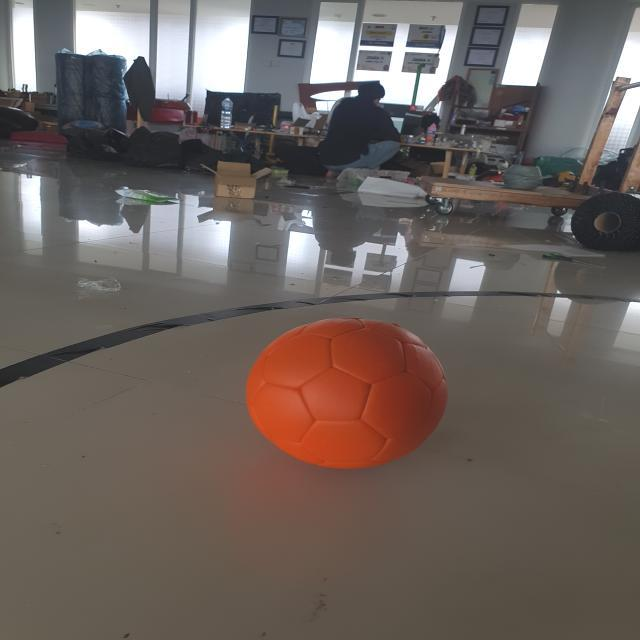bola: (238, 313, 460, 471)
